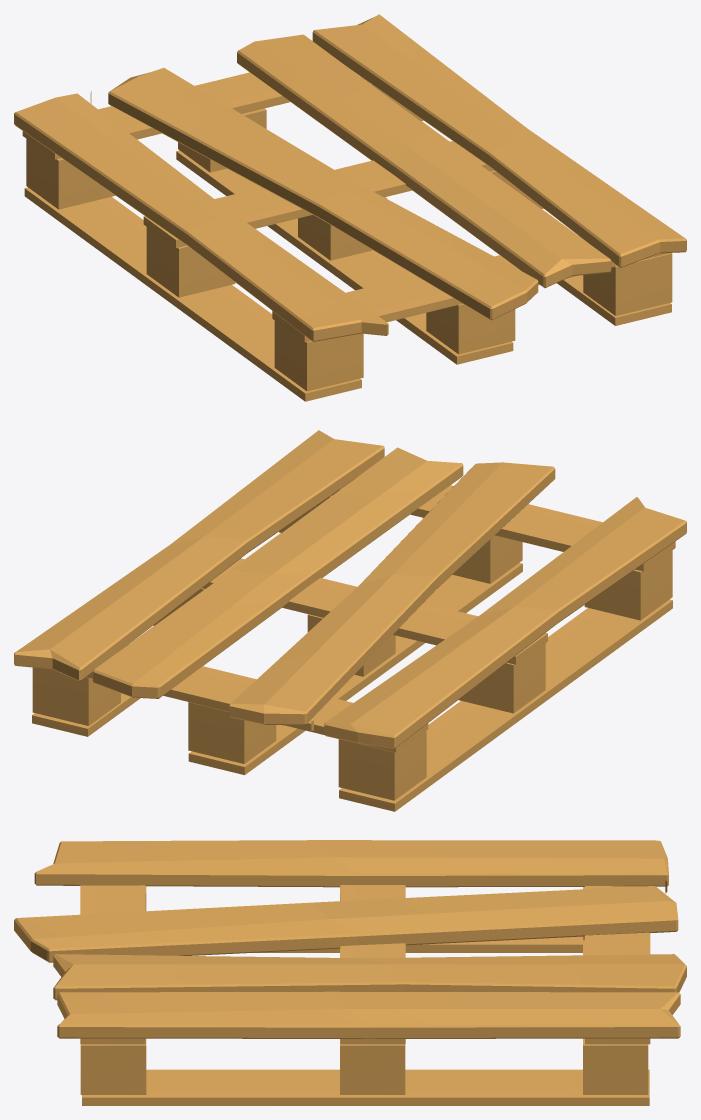
File: Broken Pallet.fbx
3 renders of one model, top to bottom at view 1: azimuth 30°, elevation 25°; view 2: azimuth 150°, elevation 25°; view 3: azimuth 270°, elevation 25°, orthographic. The views are drawn at different scales.
Parts seen in each view (by area): view 1: Broken Pallet; view 2: Broken Pallet; view 3: Broken Pallet.
Part boxes in pixels (x1,y1,x2,y2): Broken Pallet: [14, 14, 686, 401]; Broken Pallet: [14, 430, 686, 811]; Broken Pallet: [14, 840, 686, 1105].
Bounding box in the file's own units: 121 × 25.83 × 185.
